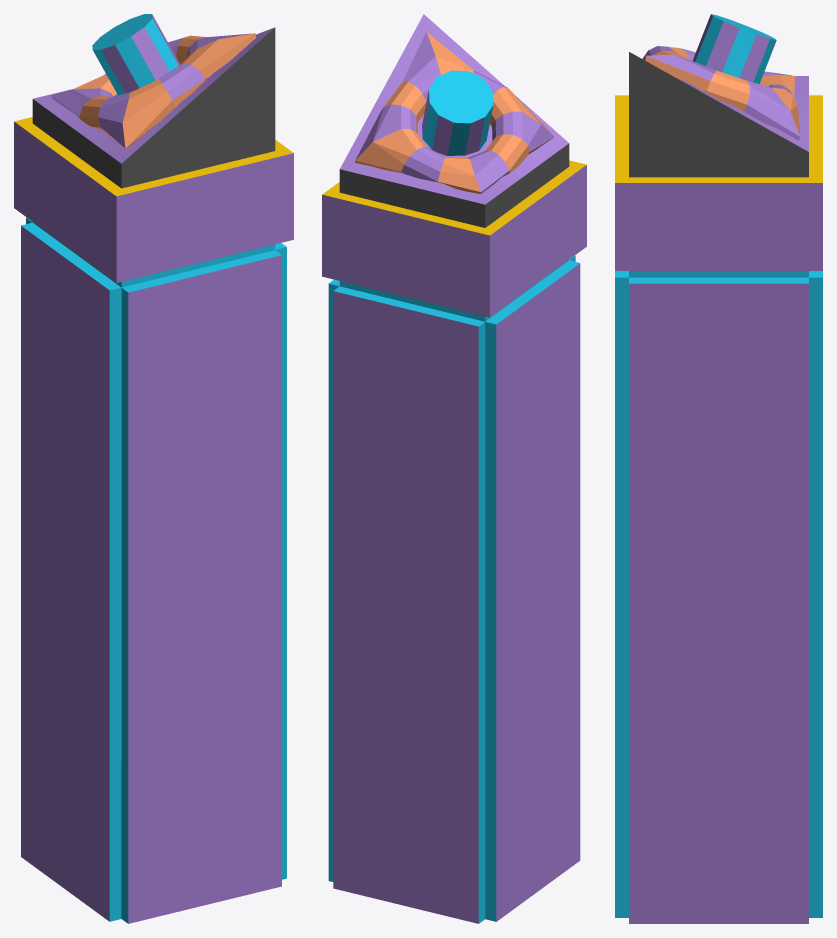
Rendered from low_poly_pillar_button.glb.
The picture shows the model from 3 angles, left to right: view 1: azimuth 30°, elevation 25°; view 2: azimuth 150°, elevation 25°; view 3: azimuth 270°, elevation 25°; orthographic projection. The views are drawn at different scales.
Parts seen in each view (by area): view 1: mesh_1714299155_material_2___9100.002_0, mesh_1714299155_material_5___9100_0, mesh_1714299155_material_23___9100.002_0, mesh_2039619123_material_14___9100.001_0, mesh_2039619123_material_2___9100_0, mesh_1704206061_material_5___9100.001_0, mesh_1714299155_material_13___9100.002_0, mesh_1704206061_material_2___9100.001_0; view 2: mesh_1714299155_material_2___9100.002_0, mesh_1714299155_material_5___9100_0, mesh_2039619123_material_14___9100.001_0, mesh_2039619123_material_2___9100_0, mesh_1714299155_material_23___9100.002_0, mesh_1704206061_material_5___9100.001_0, mesh_1714299155_material_13___9100.002_0, mesh_1704206061_material_2___9100.001_0; view 3: mesh_1714299155_material_2___9100.002_0, mesh_1714299155_material_5___9100_0, mesh_1714299155_material_23___9100.002_0, mesh_1714299155_material_13___9100.002_0, mesh_2039619123_material_14___9100.001_0, mesh_2039619123_material_2___9100_0, mesh_1704206061_material_5___9100.001_0, mesh_1704206061_material_2___9100.001_0.
Part boxes in pixels (left/top/right/bottom): mesh_1714299155_material_2___9100.002_0: left=14, top=27, right=293, bottom=923; mesh_1714299155_material_5___9100_0: left=21, top=217, right=286, bottom=923; mesh_1714299155_material_23___9100.002_0: left=32, top=27, right=275, bottom=188; mesh_2039619123_material_14___9100.001_0: left=73, top=33, right=255, bottom=148; mesh_2039619123_material_2___9100_0: left=51, top=33, right=253, bottom=148; mesh_1704206061_material_5___9100.001_0: left=92, top=14, right=178, bottom=95; mesh_1714299155_material_13___9100.002_0: left=14, top=117, right=293, bottom=196; mesh_1704206061_material_2___9100.001_0: left=101, top=14, right=179, bottom=93; mesh_1714299155_material_2___9100.002_0: left=322, top=14, right=586, bottom=923; mesh_1714299155_material_5___9100_0: left=328, top=255, right=579, bottom=923; mesh_2039619123_material_14___9100.001_0: left=355, top=32, right=552, bottom=193; mesh_2039619123_material_2___9100_0: left=355, top=32, right=554, bottom=193; mesh_1714299155_material_23___9100.002_0: left=339, top=143, right=569, bottom=227; mesh_1704206061_material_5___9100.001_0: left=422, top=70, right=493, bottom=155; mesh_1714299155_material_13___9100.002_0: left=322, top=160, right=586, bottom=235; mesh_1704206061_material_2___9100.001_0: left=422, top=90, right=485, bottom=155; mesh_1714299155_material_2___9100.002_0: left=615, top=70, right=822, bottom=923; mesh_1714299155_material_5___9100_0: left=615, top=271, right=822, bottom=917; mesh_1714299155_material_23___9100.002_0: left=629, top=52, right=808, bottom=177; mesh_1714299155_material_13___9100.002_0: left=615, top=95, right=822, bottom=182; mesh_2039619123_material_14___9100.001_0: left=645, top=47, right=800, bottom=135; mesh_2039619123_material_2___9100_0: left=642, top=46, right=800, bottom=140; mesh_1704206061_material_5___9100.001_0: left=695, top=14, right=776, bottom=83; mesh_1704206061_material_2___9100.001_0: left=692, top=14, right=769, bottom=82.
Size of the model in its own units: 15 by 69 by 15.
